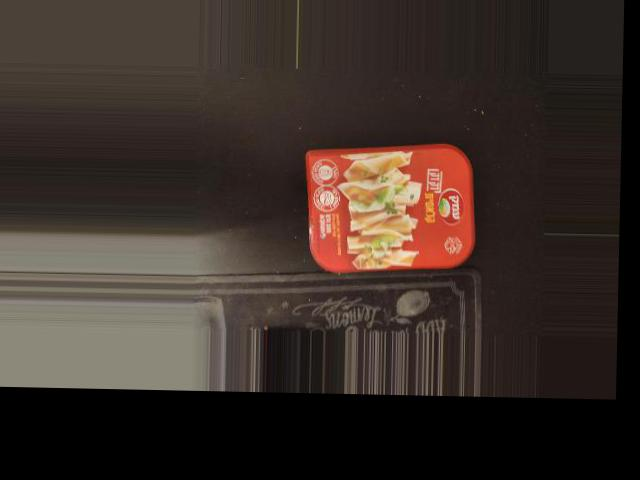cheese: (308, 147, 471, 268)
